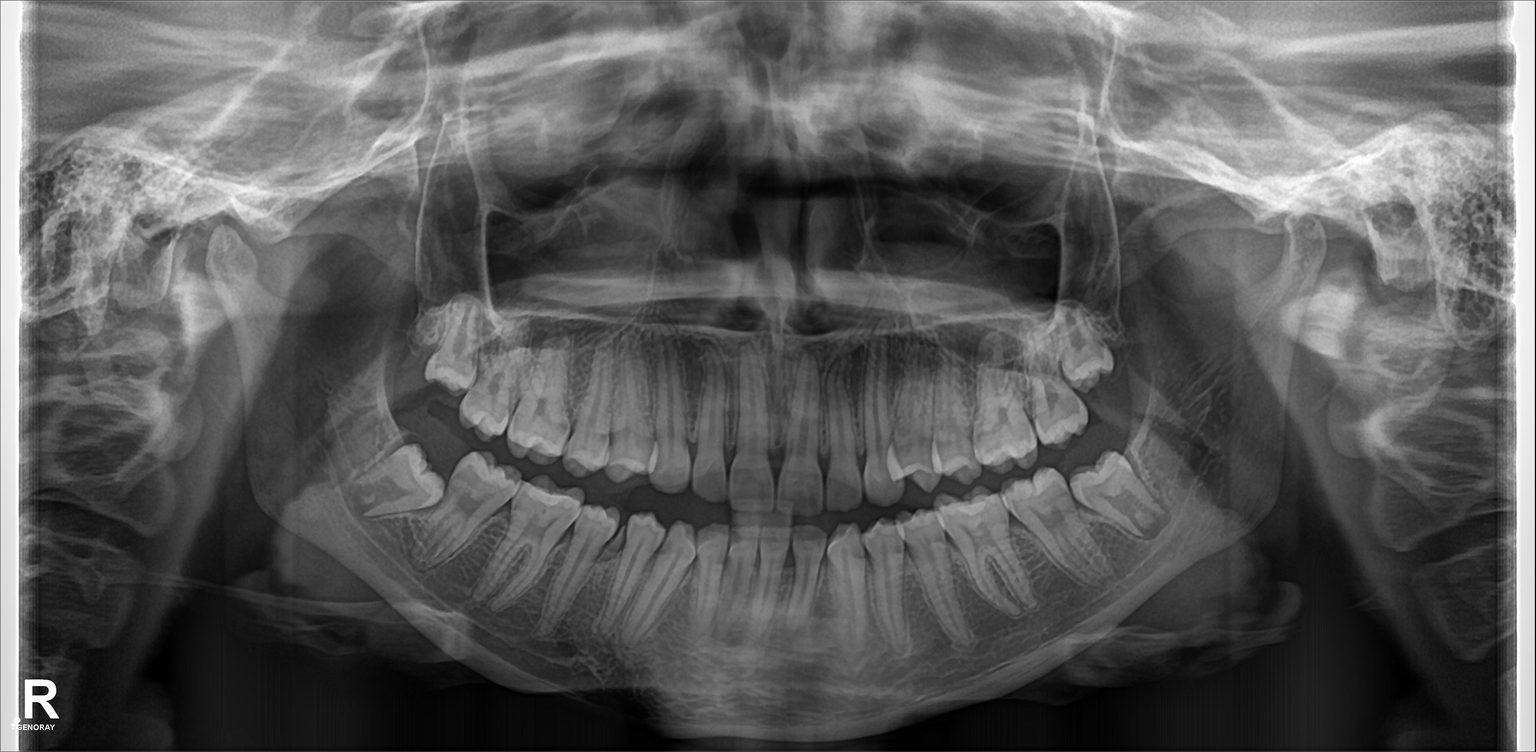Impacted Third Molar: (1076, 456, 1164, 533), (348, 456, 447, 517), (417, 320, 478, 401), (1063, 313, 1122, 389)
